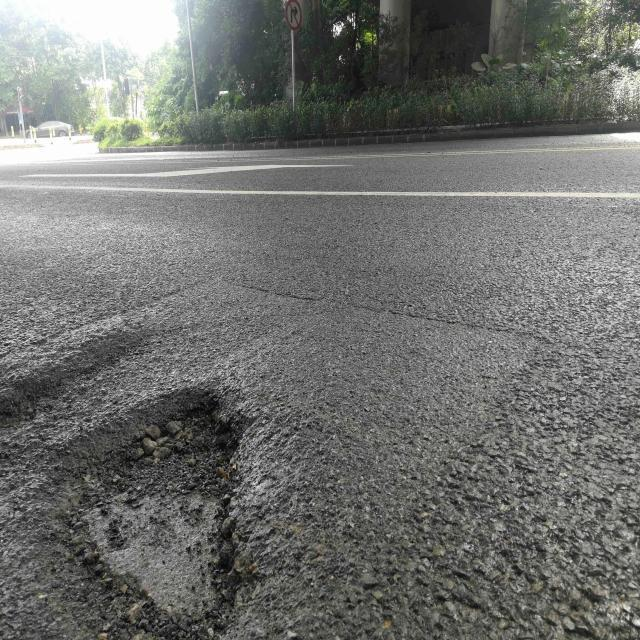Buraco: (41, 383, 254, 636)
